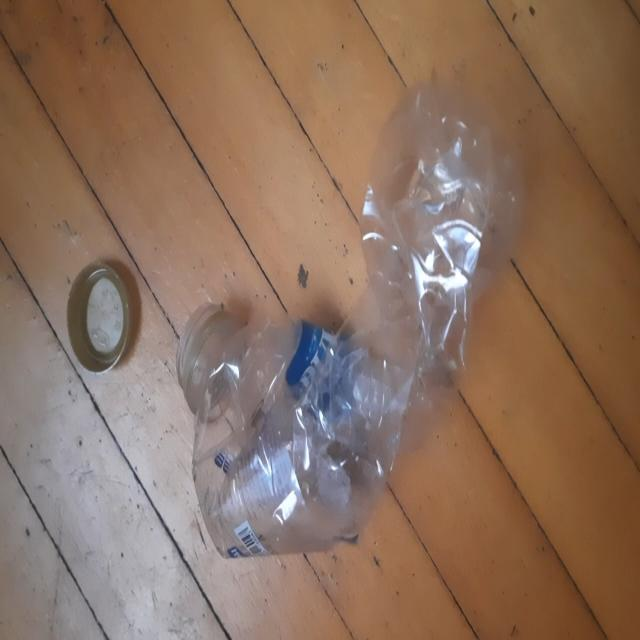Plastic: (188, 78, 522, 559)
